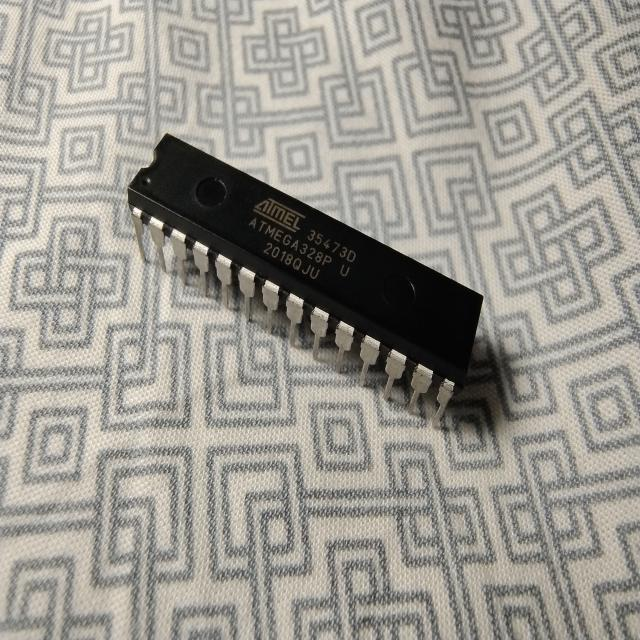atmega: (125, 130, 486, 424)
